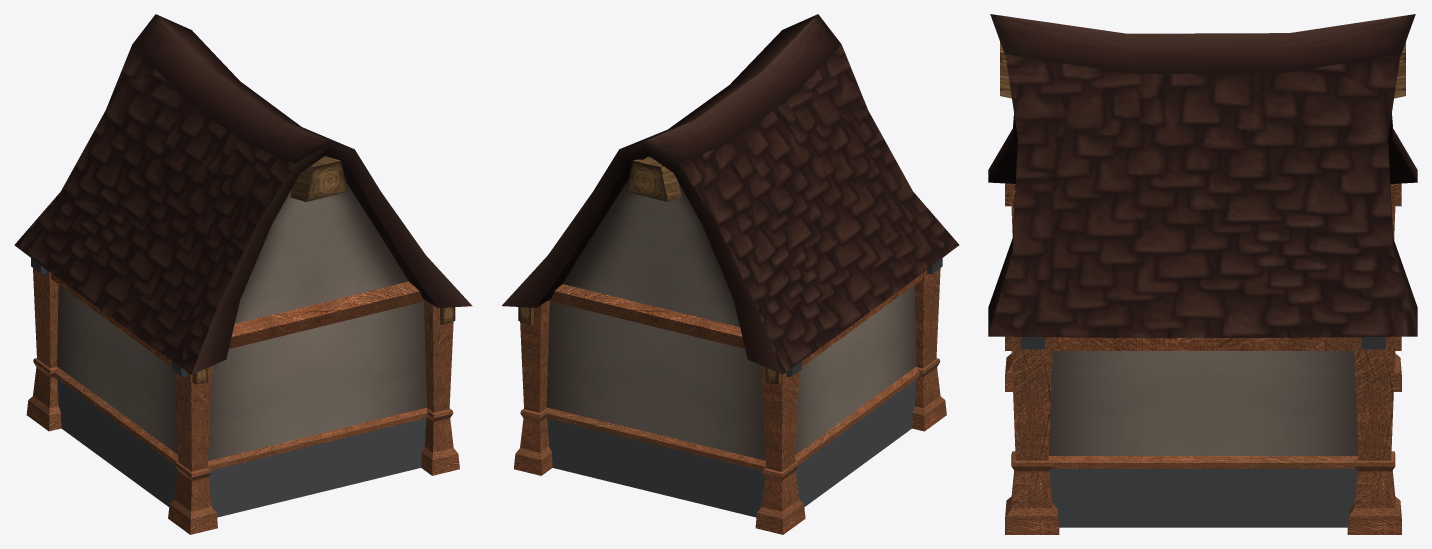
Rendered from fanasty_mod_D_house.fbx.
The picture shows the model from 3 angles, left to right: view 1: azimuth 30°, elevation 25°; view 2: azimuth 150°, elevation 25°; view 3: azimuth 270°, elevation 25°; orthographic projection. The views are drawn at different scales.
Visible parts, largest first — view 1: D_house; view 2: D_house; view 3: D_house.
Boxes of the visible parts, x1,y1,x2,y2 form: D_house: [14, 14, 472, 534]; D_house: [502, 14, 959, 534]; D_house: [988, 14, 1417, 534].
Bounding box in the file's own units: 6.23 × 7.7 × 6.79.
